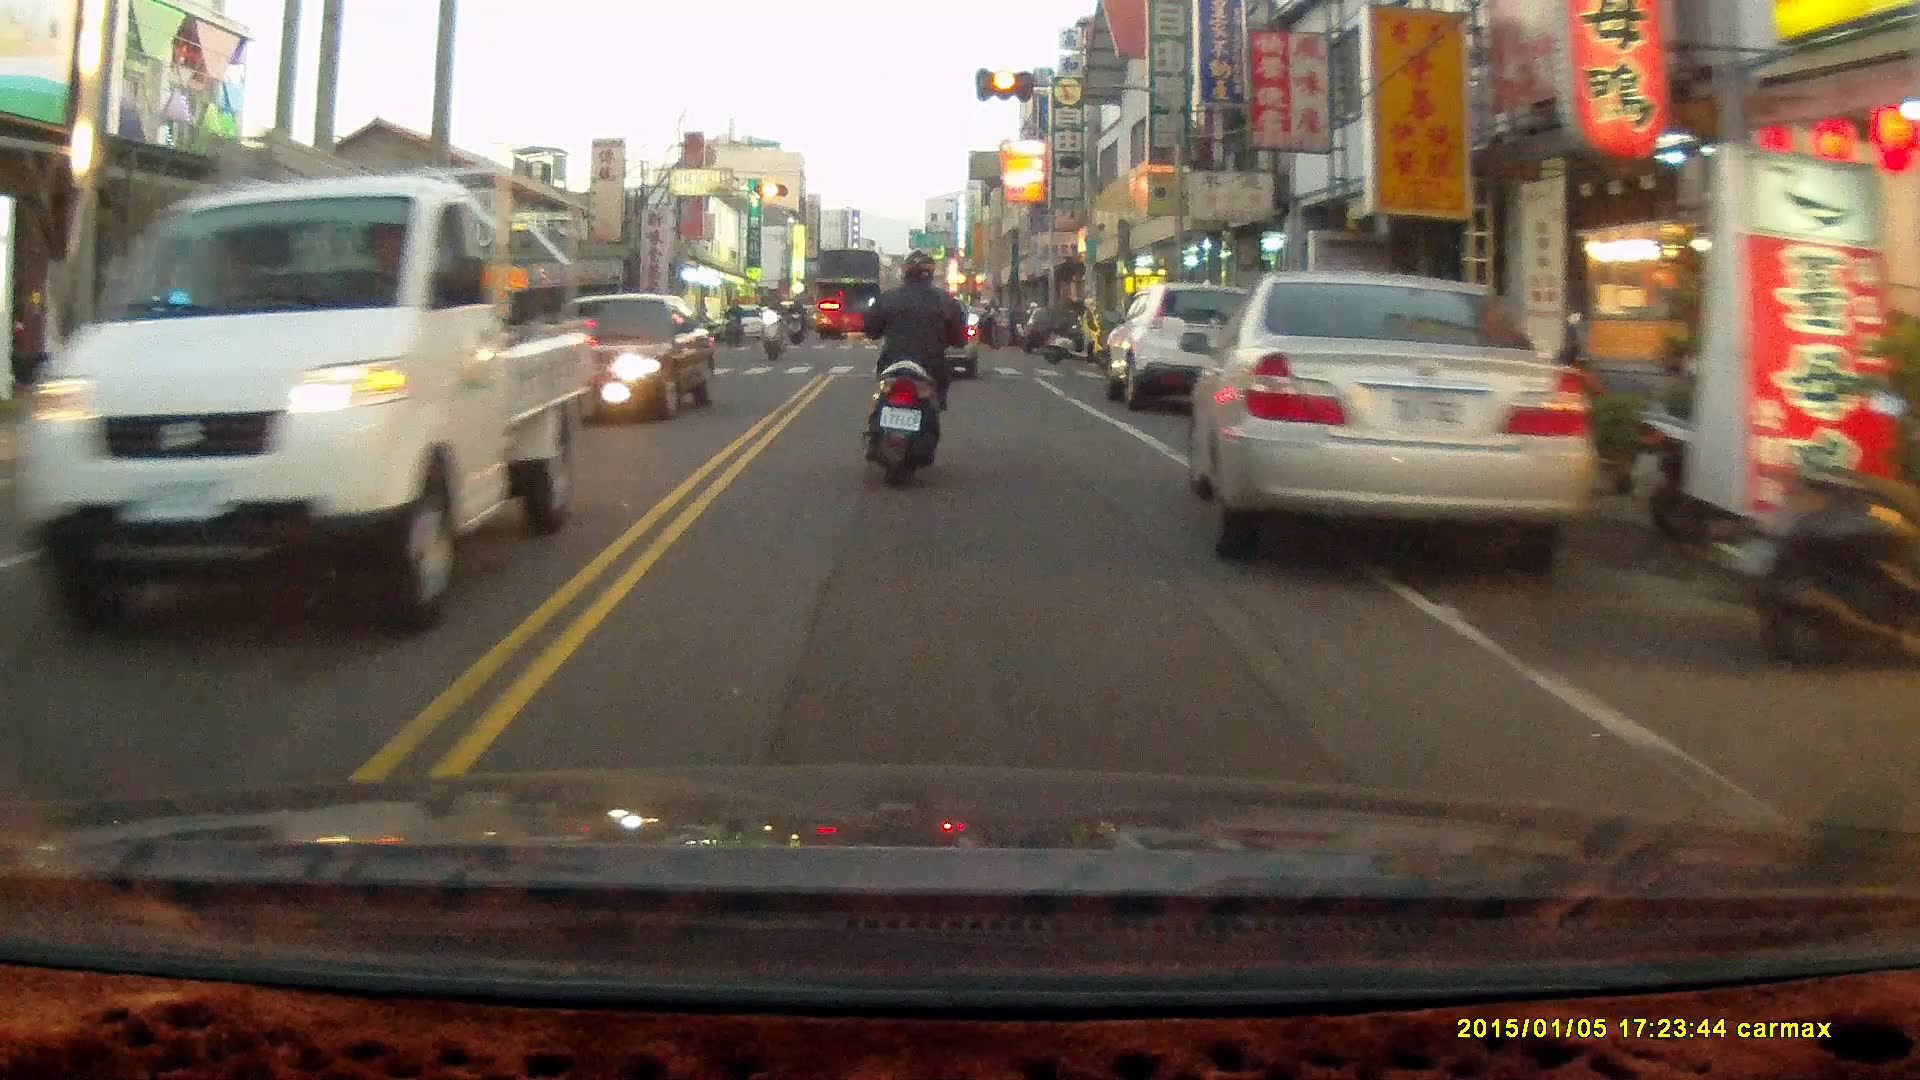pedestrian: (1079, 292, 1102, 366)
rider: (858, 248, 981, 487), (758, 288, 786, 358), (723, 294, 746, 348), (788, 292, 808, 347)
vehicle: (55, 170, 585, 642), (1184, 270, 1568, 583), (534, 292, 722, 428), (1106, 279, 1272, 409), (812, 248, 890, 336)
